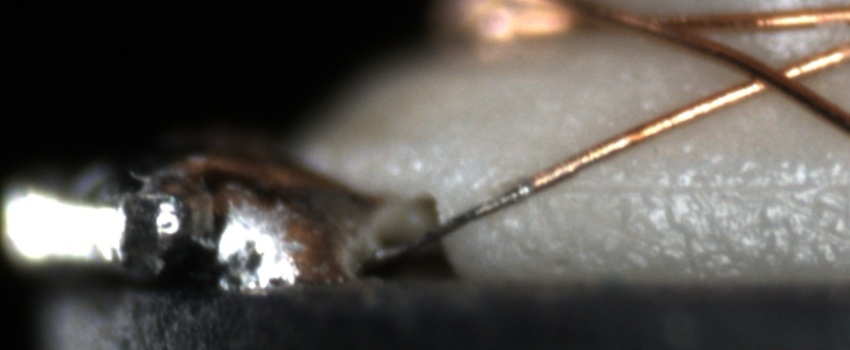CL: (723, 49, 815, 103)
DL: (544, 159, 850, 223)
TS: (366, 176, 534, 263)
TTCW: (374, 151, 591, 265)
